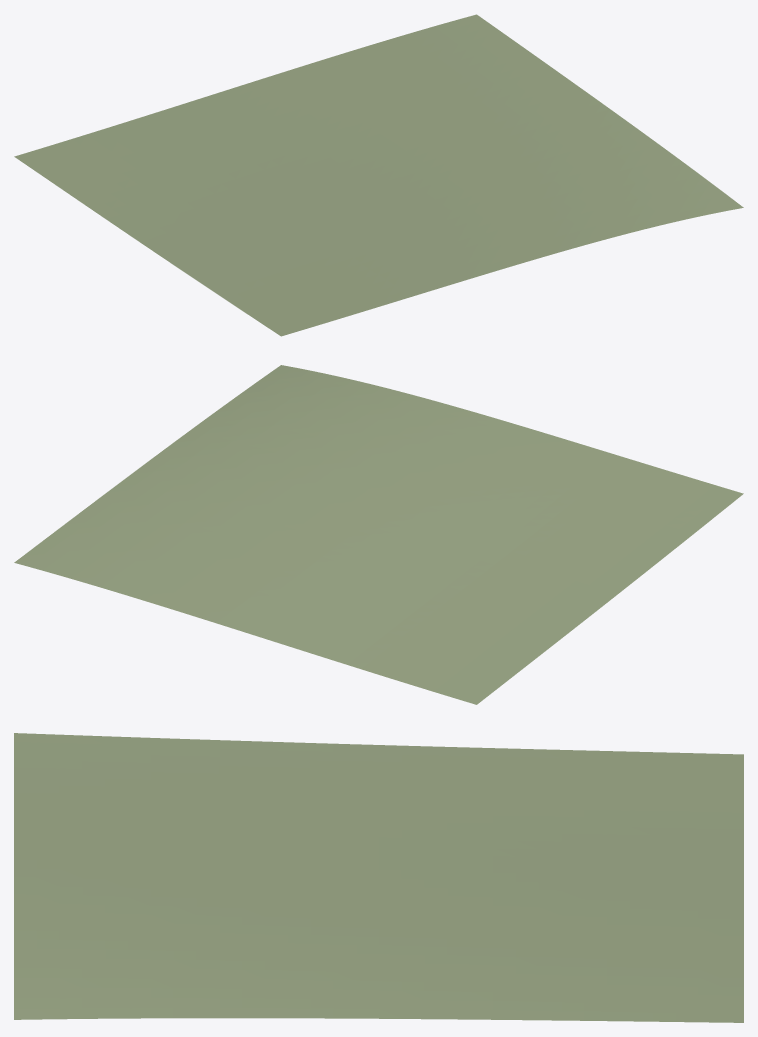
File: expanse-4-26.glb
3 renders of one model, top to bottom at view 1: azimuth 30°, elevation 25°; view 2: azimuth 150°, elevation 25°; view 3: azimuth 270°, elevation 25°, orthographic. The views are drawn at different scales.
Parts seen in each view (by area): view 1: expanse-4-26; view 2: expanse-4-26; view 3: expanse-4-26.
Boxes of the visible parts, x1,y1,x2,y2 form: expanse-4-26: (14, 14, 743, 336); expanse-4-26: (14, 365, 743, 704); expanse-4-26: (14, 733, 743, 1022).
Bounding box in the file's own units: 256 × 18.09 × 256.
